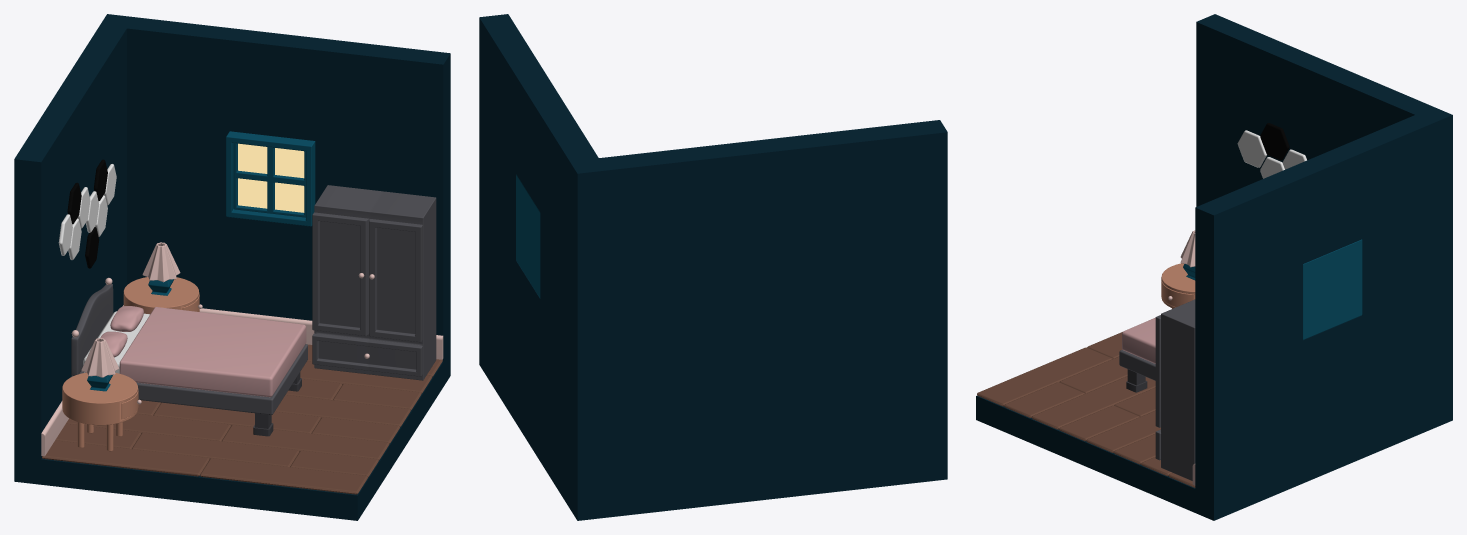
The model's file is sleeping room.glb.
3 views of the same model, side by side, from view 1: azimuth 30°, elevation 25°; view 2: azimuth 150°, elevation 25°; view 3: azimuth 270°, elevation 25° (orthographic). The views are drawn at different scales.
Parts seen in each view (by area): view 1: Room, Floor, Wardrobe, Blanket, Window, Nightstand table, Hexagon, Frame, Lamp top, Headboard, Floor Trim, Pillows (+4 smaller); view 2: Room, Window; view 3: Room, Floor, Wardrobe, Window, Hexagon, Nightstand table, Blanket, Frame.
Part boxes in pixels (x1=…): Room: x1=14, y1=14, x2=450, y2=520; Floor: x1=42, y1=344, x2=442, y2=494; Wardrobe: x1=312, y1=185, x2=436, y2=380; Blanket: x1=119, y1=307, x2=306, y2=397; Window: x1=226, y1=131, x2=315, y2=226; Nightstand table: x1=62, y1=277, x2=199, y2=425; Hexagon: x1=58, y1=159, x2=116, y2=268; Frame: x1=71, y1=344, x2=307, y2=414; Lamp top: x1=81, y1=242, x2=180, y2=377; Headboard: x1=71, y1=284, x2=113, y2=375; Floor Trim: x1=41, y1=305, x2=443, y2=456; Pillows: x1=100, y1=306, x2=143, y2=357; Room: x1=479, y1=14, x2=947, y2=520; Window: x1=516, y1=175, x2=540, y2=297; Room: x1=976, y1=14, x2=1452, y2=520; Floor: x1=977, y1=332, x2=1195, y2=487; Wardrobe: x1=1155, y1=299, x2=1195, y2=480; Window: x1=1303, y1=239, x2=1362, y2=339; Hexagon: x1=1237, y1=123, x2=1306, y2=178; Nightstand table: x1=1161, y1=263, x2=1195, y2=308; Blanket: x1=1122, y1=317, x2=1155, y2=363; Frame: x1=1119, y1=349, x2=1155, y2=380.
Bounding box in the file's own units: 11.31 × 8 × 11.31.
